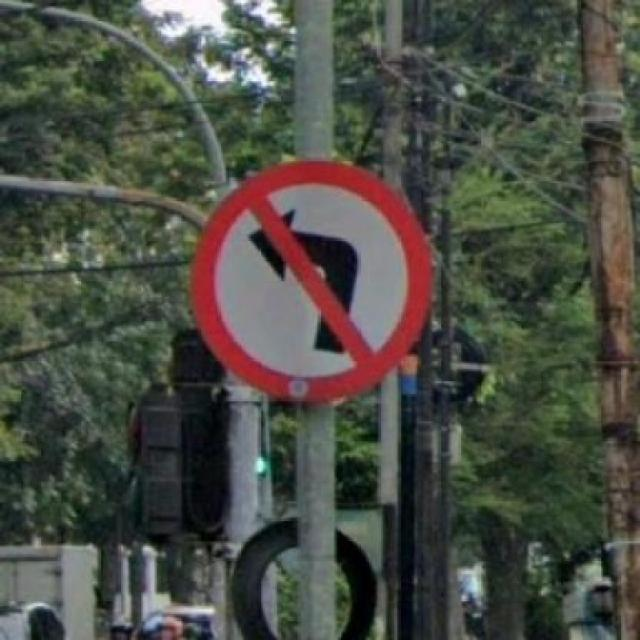left turn prohibited: (180, 157, 438, 404)
